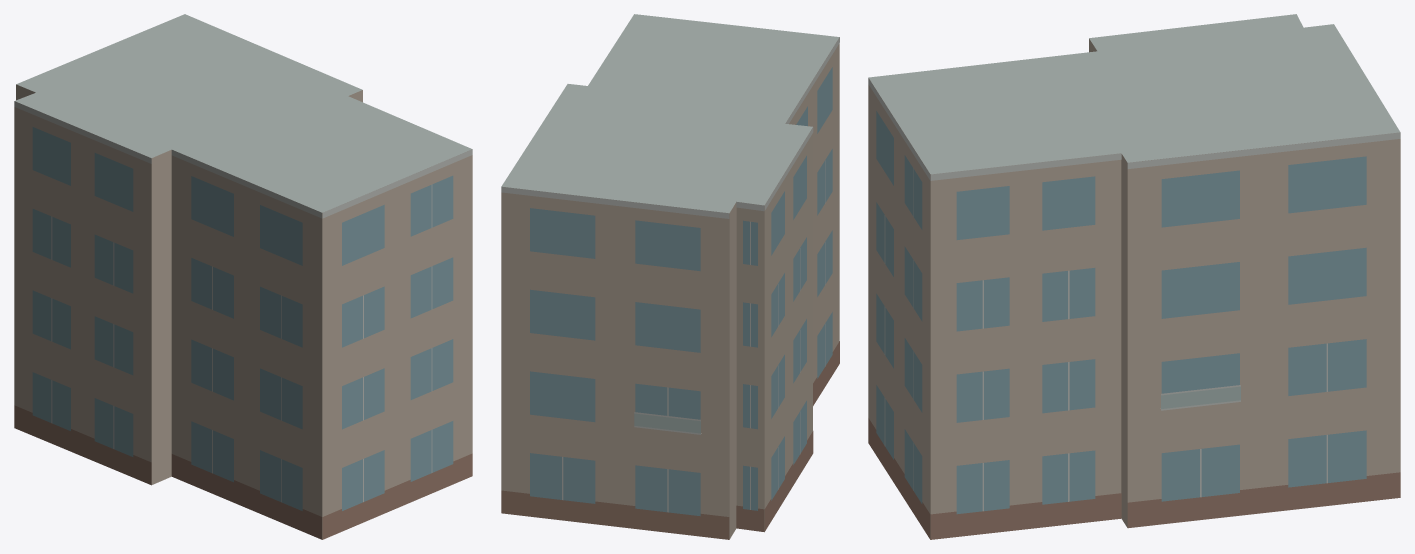
Rendered from survey-upis-32937924.glb.
The picture shows the model from 3 angles, left to right: view 1: azimuth 30°, elevation 25°; view 2: azimuth 150°, elevation 25°; view 3: azimuth 270°, elevation 25°; orthographic projection. The views are drawn at different scales.
Visible parts, largest first — view 1: survey-upis-32937924.tmp; view 2: survey-upis-32937924.tmp; view 3: survey-upis-32937924.tmp.
Part boxes in pixels (x1,y1,x2,y2): survey-upis-32937924.tmp: (14, 14, 472, 539); survey-upis-32937924.tmp: (501, 14, 839, 539); survey-upis-32937924.tmp: (868, 14, 1400, 539).
Bounding box in the file's own units: 12.96 × 13.75 × 18.16.
